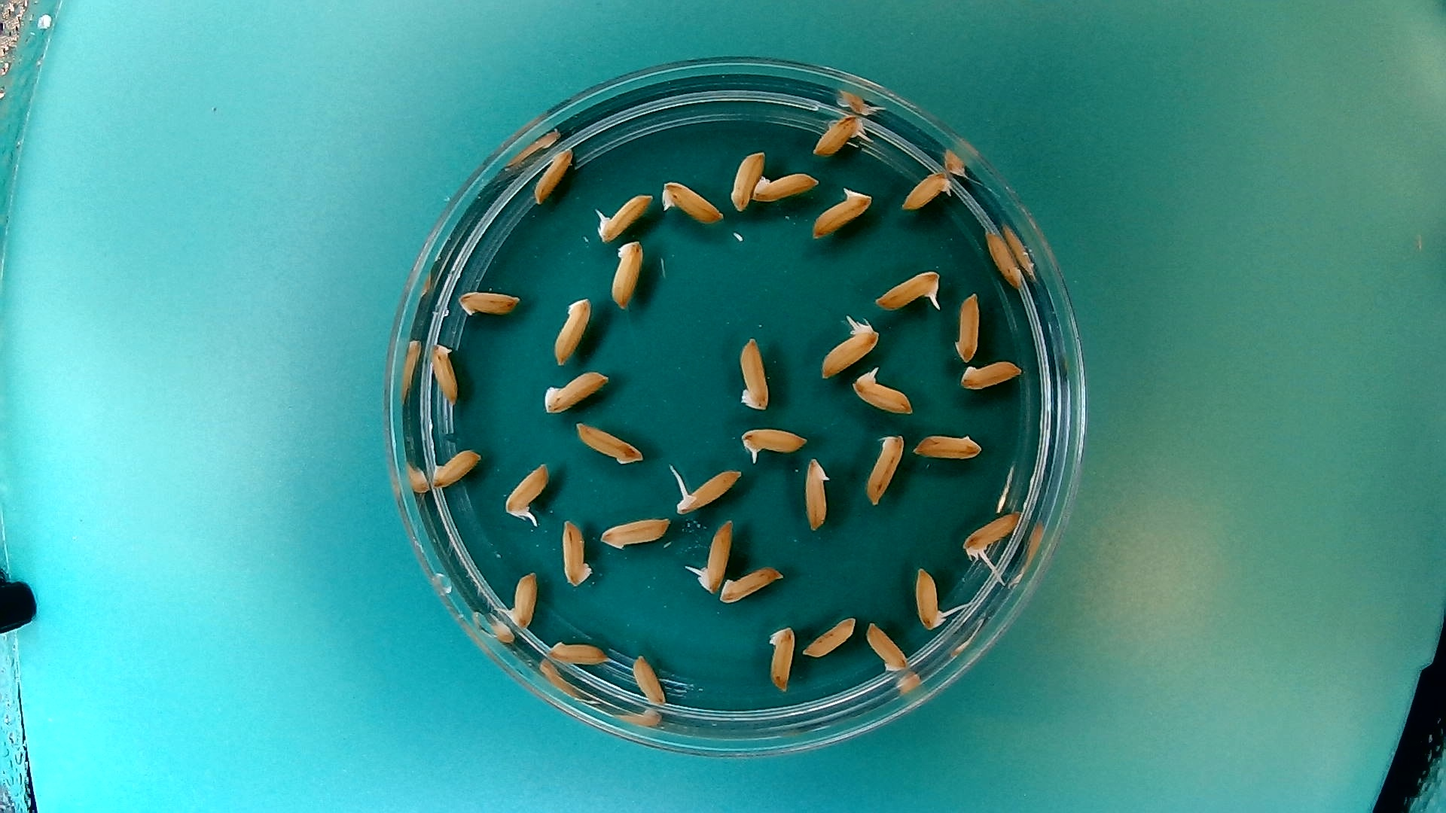no: (540, 370, 618, 416), (862, 429, 905, 508), (572, 420, 644, 467), (596, 510, 674, 552), (547, 296, 593, 367), (607, 234, 647, 312), (718, 562, 786, 607), (736, 331, 773, 413), (863, 618, 913, 674), (530, 144, 575, 206), (983, 227, 1027, 290), (801, 614, 859, 659), (802, 451, 833, 534), (559, 516, 593, 591), (764, 621, 798, 695), (749, 169, 823, 203), (950, 288, 983, 364), (455, 283, 523, 319), (429, 444, 486, 486), (911, 428, 983, 461), (730, 149, 765, 214), (958, 356, 1024, 390), (429, 340, 462, 407), (629, 651, 668, 707), (545, 635, 612, 666)
yes: (817, 310, 883, 382), (809, 181, 877, 242), (672, 465, 745, 517), (501, 457, 554, 522), (871, 266, 945, 312), (658, 176, 727, 225), (850, 365, 916, 416), (592, 190, 654, 243), (963, 507, 1024, 560), (697, 515, 737, 595), (810, 109, 870, 158), (737, 422, 811, 461), (898, 166, 956, 212), (502, 568, 538, 631), (914, 562, 947, 628)
